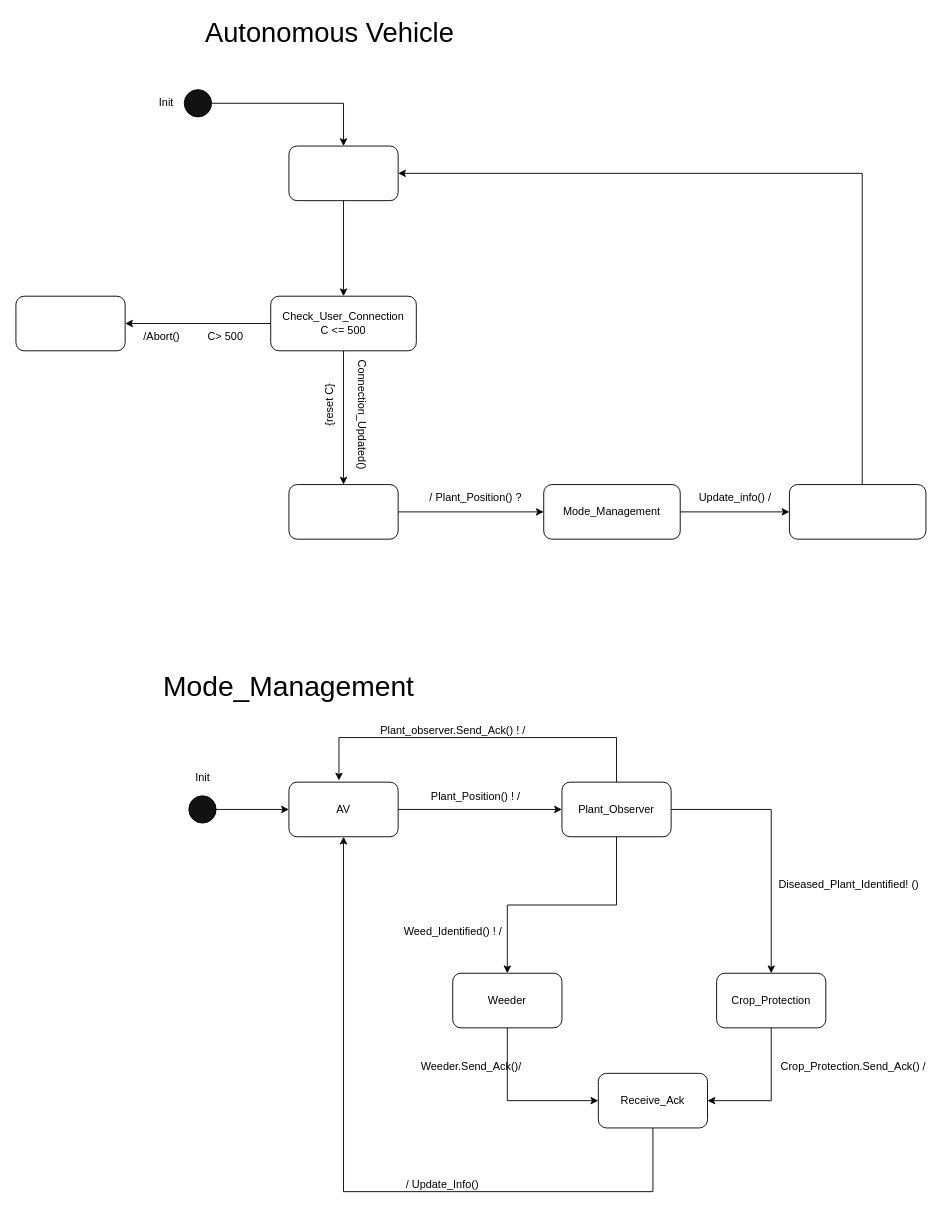
Image size: 951x1215. Some labels were removed from this diagram. The shapes that lost their labels are listed below. From the top down, each one's centre as x and y in pixels, then its label:
At [343,173]: "Idle".
At [70,323]: "Connection Failed".
At [343,511]: "Plant_Detection".
At [857,511]: "User_Information_Update".
